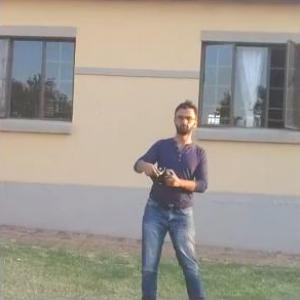follow: (127, 93, 215, 299)
